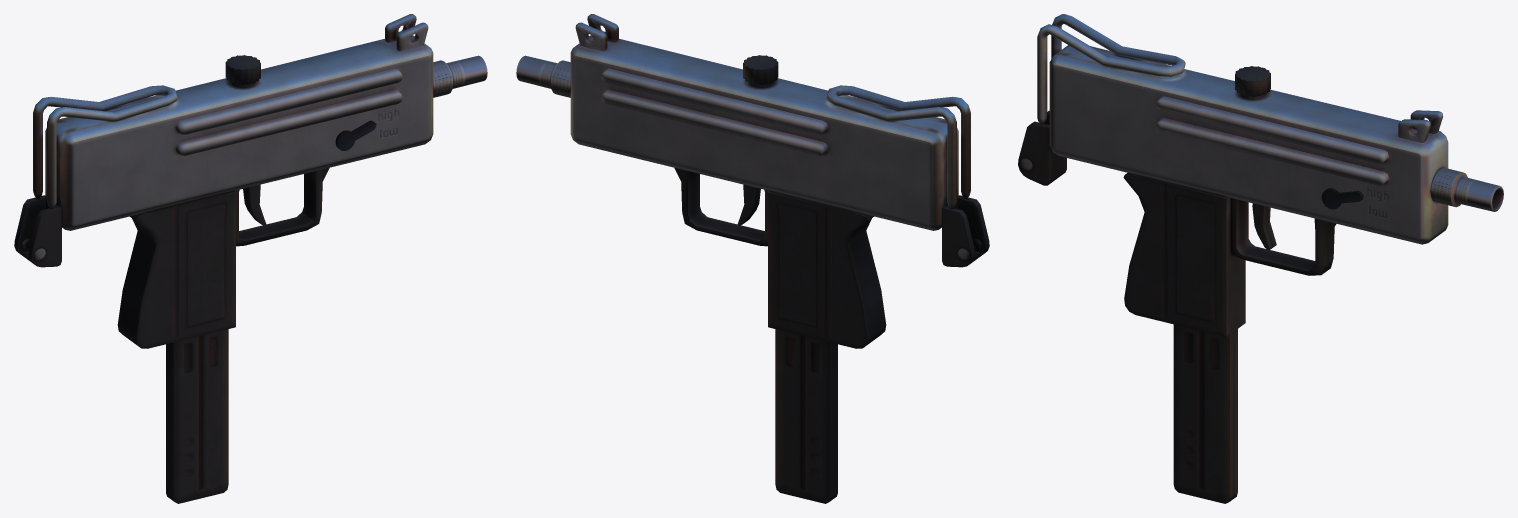
The model's file is mac10.glb.
The picture shows the model from 3 angles, left to right: view 1: azimuth 30°, elevation 25°; view 2: azimuth 150°, elevation 25°; view 3: azimuth 330°, elevation 25°; orthographic projection. The views are drawn at different scales.
Visible parts, largest first — view 1: mac10, mac10magazine_low, mac10derriere_low, mac10rond_low, mac10bt_low, mac10trigger_low; view 2: mac10, mac10magazine_low, mac10derriere_low, mac10rond_low, mac10trigger_low; view 3: mac10, mac10magazine_low, mac10derriere_low, mac10rond_low, mac10trigger_low, mac10bt_low.
Part boxes in pixels (x1,y1,x2,y2): mac10: (45, 14, 487, 348); mac10magazine_low: (166, 329, 228, 503); mac10derriere_low: (14, 85, 177, 267); mac10rond_low: (225, 55, 260, 87); mac10bt_low: (335, 120, 376, 150); mac10trigger_low: (243, 184, 266, 225); mac10: (516, 14, 958, 348); mac10magazine_low: (775, 329, 837, 503); mac10derriere_low: (826, 85, 989, 267); mac10rond_low: (743, 55, 778, 87); mac10trigger_low: (737, 184, 760, 225); mac10: (1049, 45, 1503, 336); mac10magazine_low: (1173, 324, 1237, 503); mac10derriere_low: (1018, 14, 1185, 185); mac10rond_low: (1235, 66, 1270, 99); mac10trigger_low: (1252, 203, 1276, 249); mac10bt_low: (1321, 188, 1363, 209).
Size of the model in its own units: 0.2346 by 0.2092 by 0.0286.
1 material, 1 textured.
